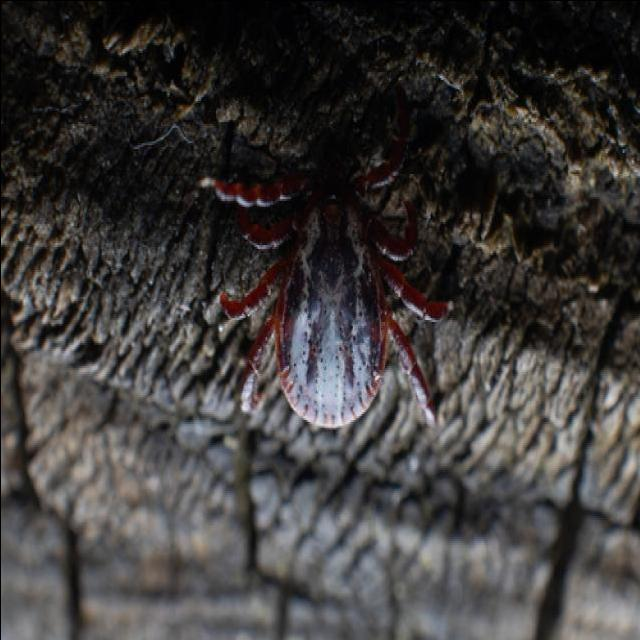Dermacentor Reticulatus-M: (212, 85, 448, 427)
